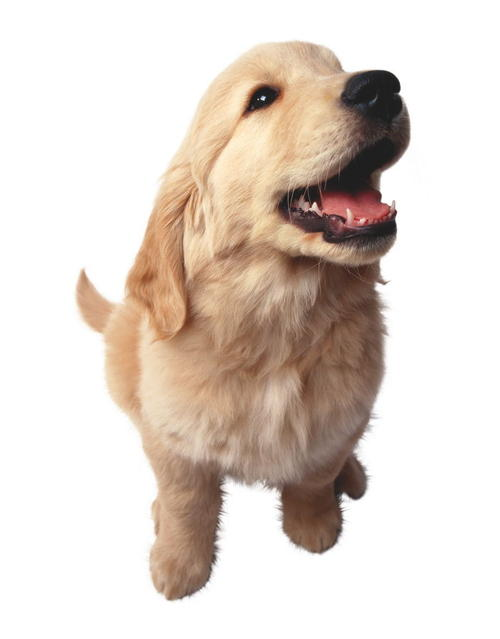dog: (169, 13, 438, 313)
